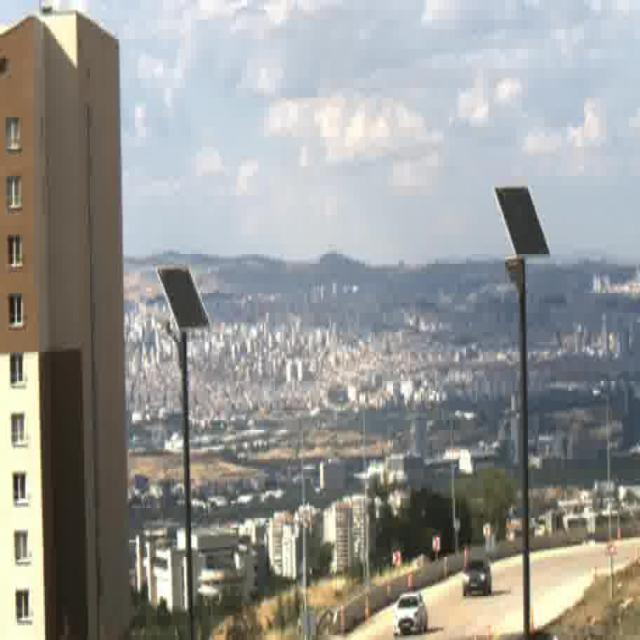Car: (394, 588, 428, 638), (462, 560, 492, 594)
